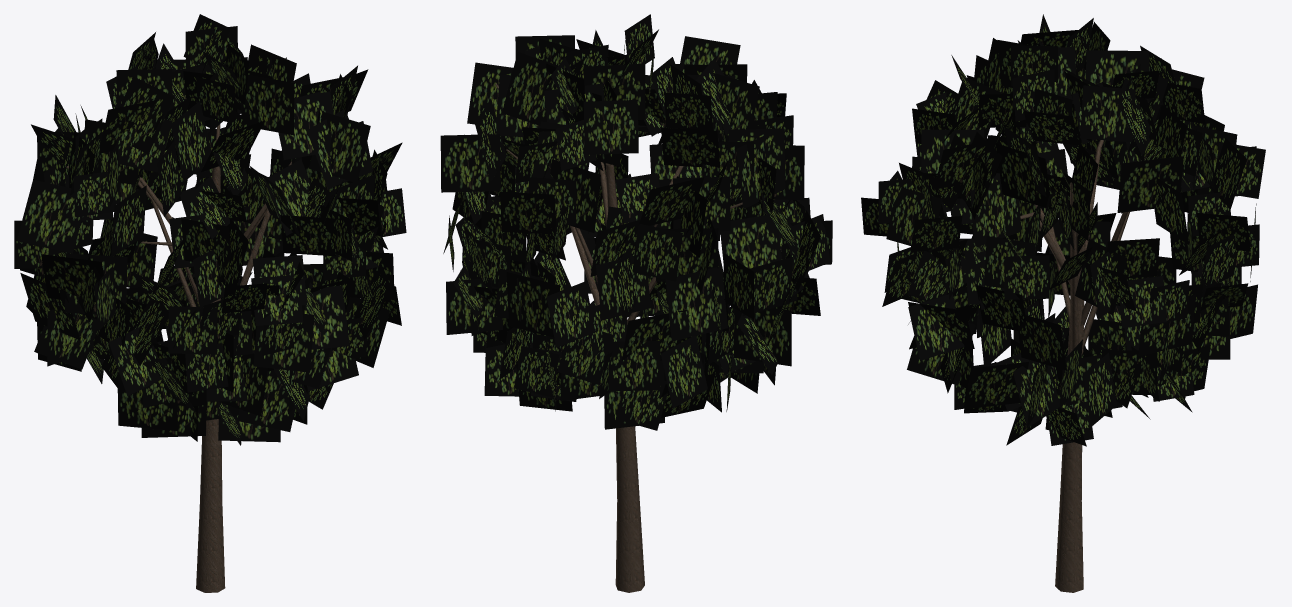
Rendered from tpl_farm_tall_meadow_ash.glb.
3 views of the same model, side by side, from view 1: azimuth 30°, elevation 25°; view 2: azimuth 150°, elevation 25°; view 3: azimuth 270°, elevation 25° (orthographic).
Visible parts, largest first — view 1: tpl_farm_tall_meadow_ash; view 2: tpl_farm_tall_meadow_ash; view 3: tpl_farm_tall_meadow_ash.
Boxes of the visible parts, x1,y1,x2,y2 form: tpl_farm_tall_meadow_ash: (14,14,406,592); tpl_farm_tall_meadow_ash: (440,14,832,592); tpl_farm_tall_meadow_ash: (861,14,1265,592).
Size of the model in its own units: 11.92 by 17.86 by 12.35.
Materials: 2 (2 with a texture image).
